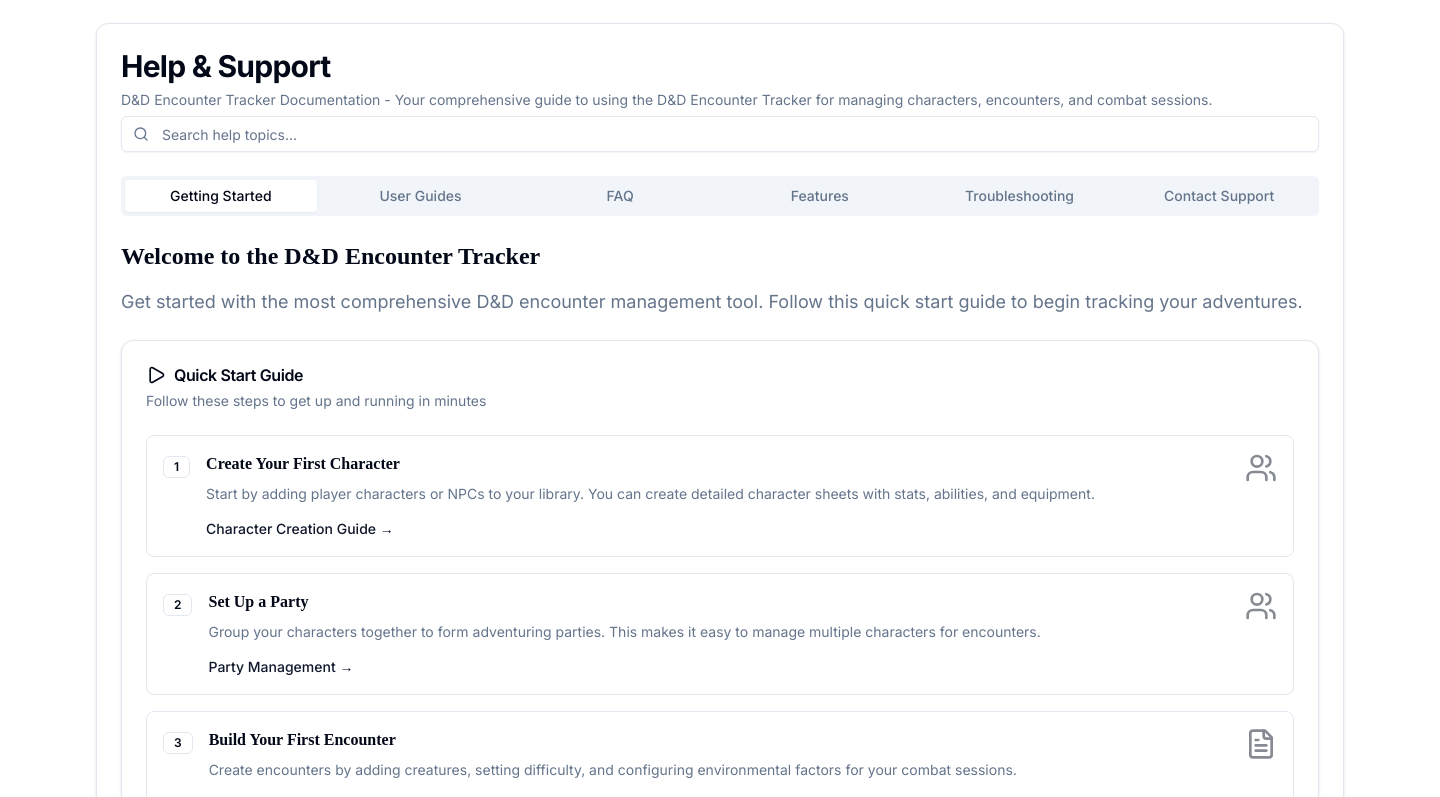
Scenario: HelpPage Component › Troubleshooting Section › includes technical support information
Click the tab "Troubleshooting".
click(1020, 196)  # box left=924, top=180, right=1115, bottom=212
(page scrolled)
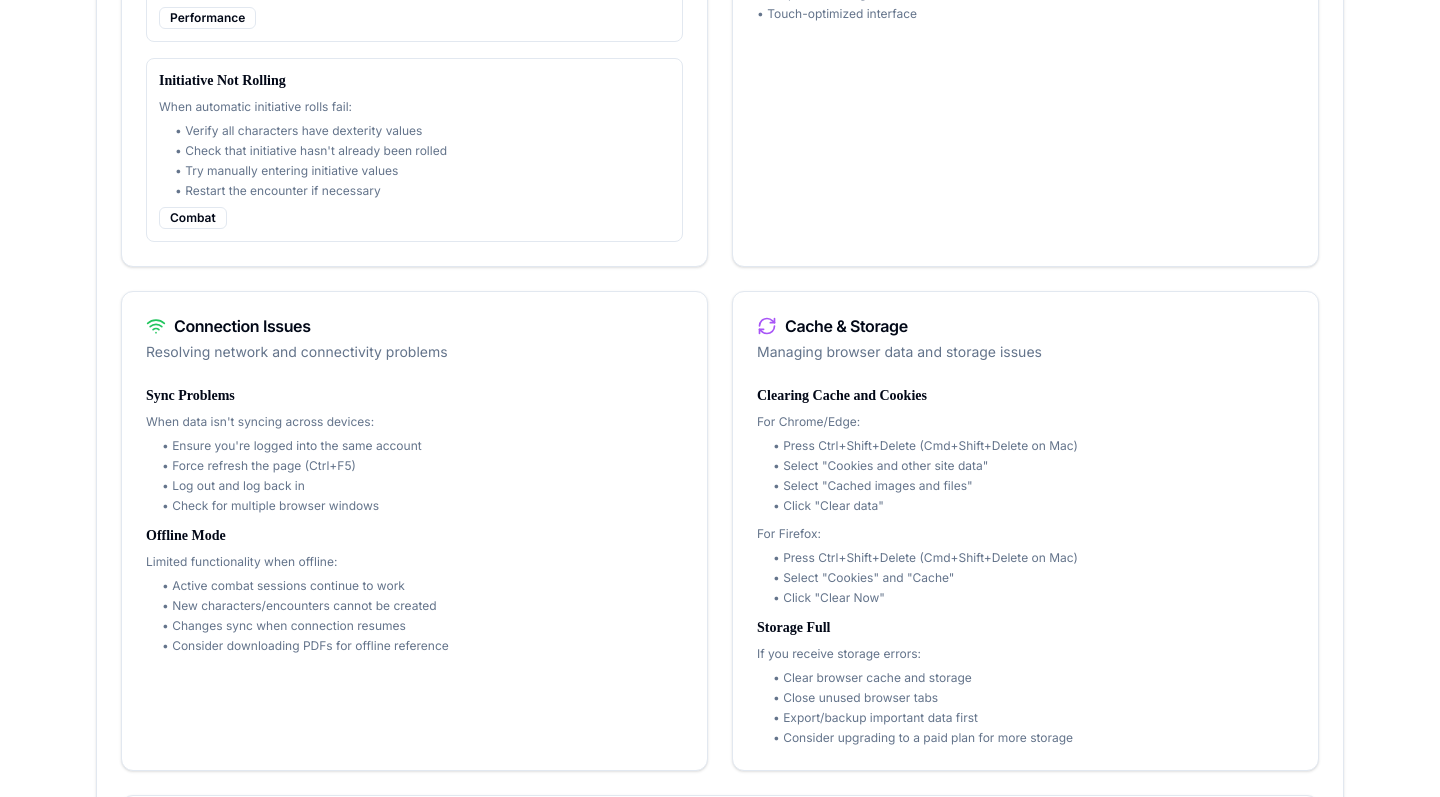
expect the heading "Clearing Cache and Cookies" is shown: met, box left=757, top=388, right=927, bottom=403
